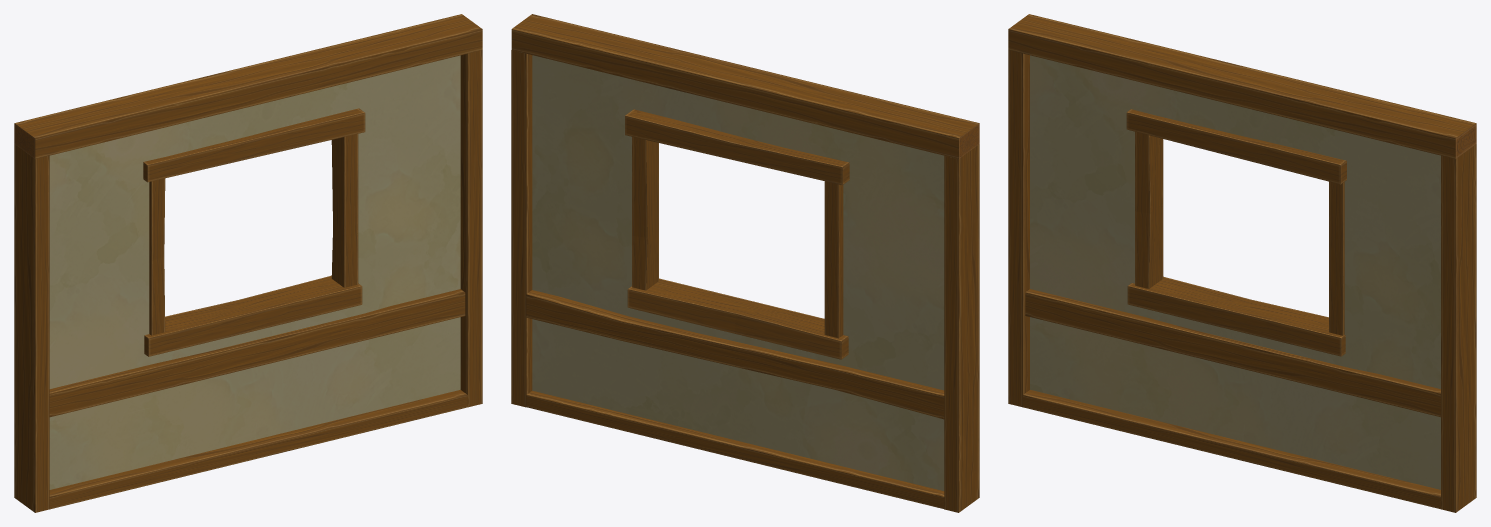
File: SM_House_Wall_5x4_Window_B_02.fbx
The picture shows the model from 3 angles, left to right: view 1: azimuth 30°, elevation 25°; view 2: azimuth 150°, elevation 25°; view 3: azimuth 330°, elevation 25°; orthographic projection.
Visible parts, largest first — view 1: SM_House_Wall_5x4_Window_B_02; view 2: SM_House_Wall_5x4_Window_B_02; view 3: SM_House_Wall_5x4_Window_B_02.
Part boxes in pixels (x1=…): SM_House_Wall_5x4_Window_B_02: x1=14, y1=14, x2=482, y2=512; SM_House_Wall_5x4_Window_B_02: x1=511, y1=14, x2=979, y2=512; SM_House_Wall_5x4_Window_B_02: x1=1008, y1=14, x2=1476, y2=512.
Bounding box in the file's own units: 5 × 4 × 0.4555.
